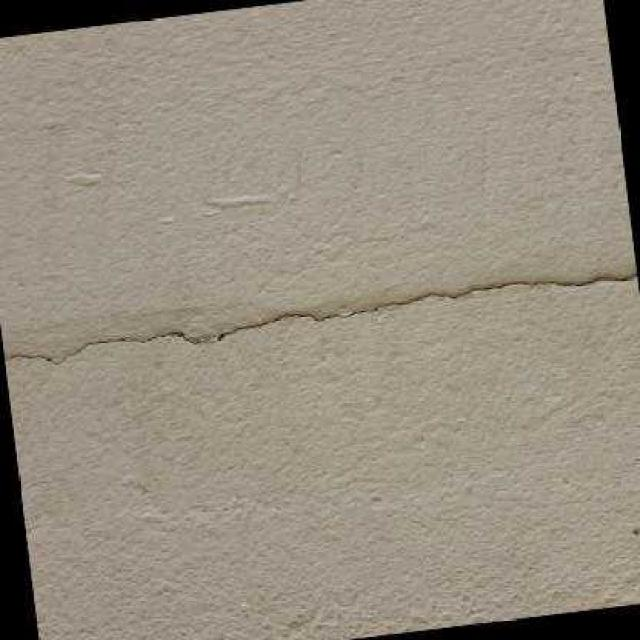D00: (2, 270, 638, 366)
